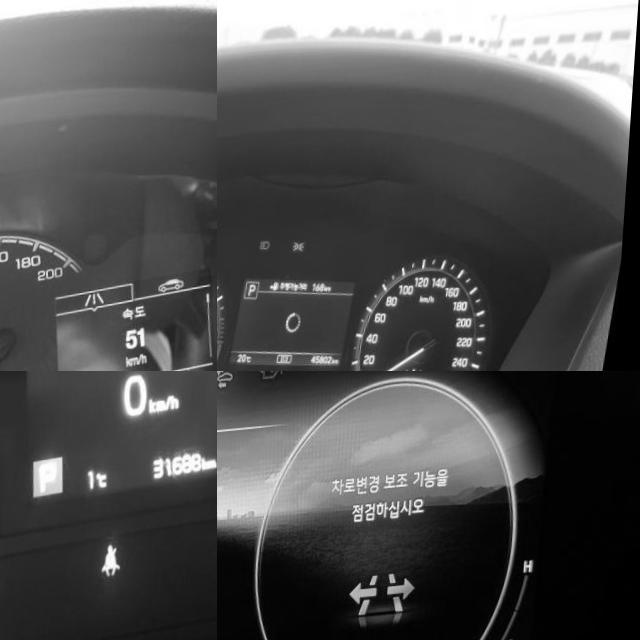SideLamp: (295, 245, 308, 258)
